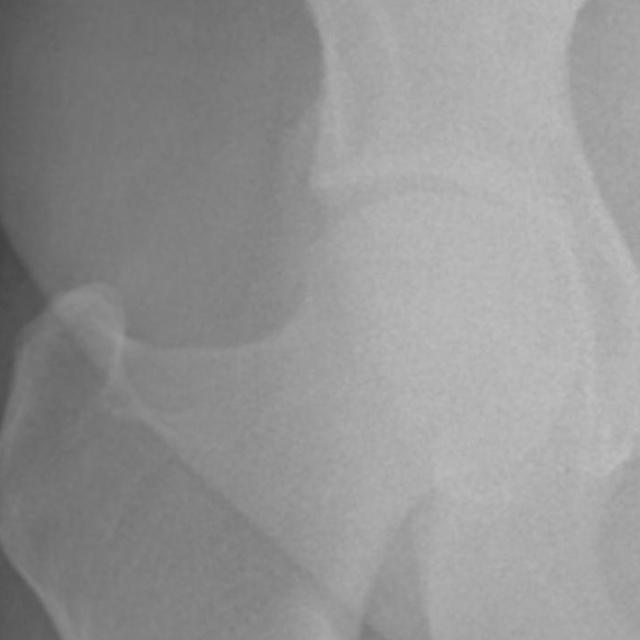Fitted_femural_head: (301, 188, 432, 301)
